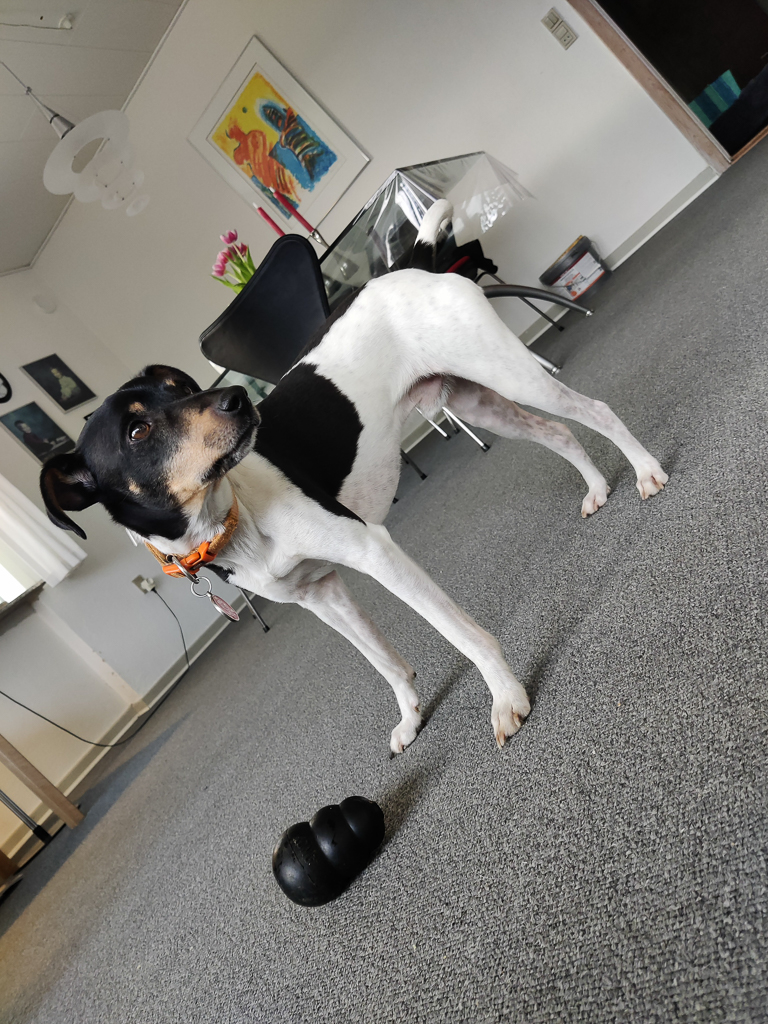Dog: (30, 188, 686, 768)
